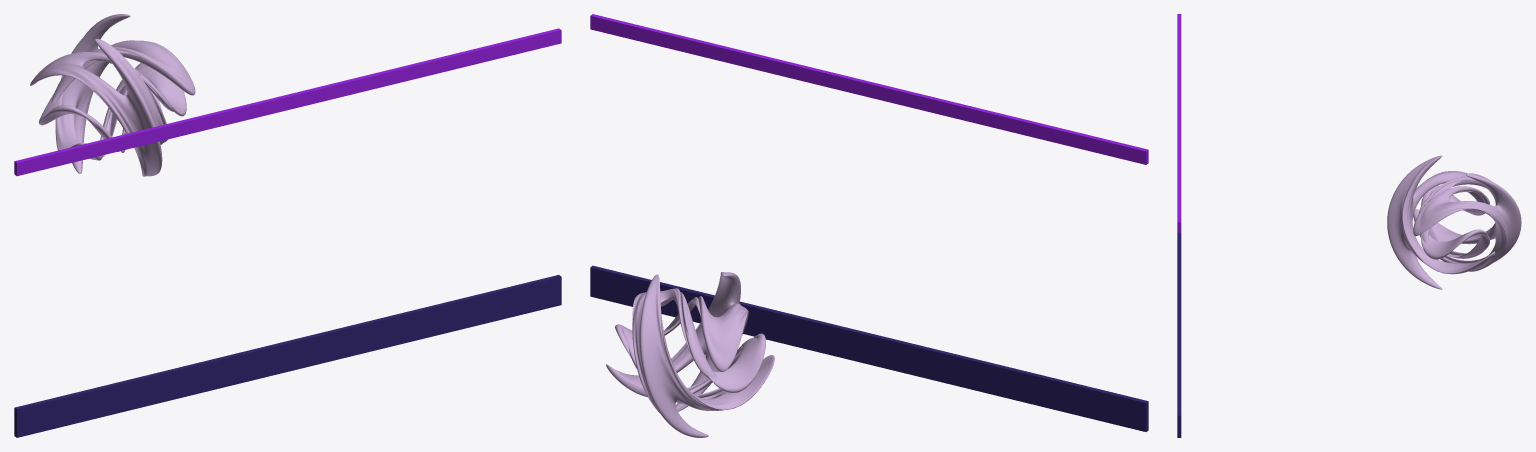
3 views of the same model, side by side, from view 1: azimuth 30°, elevation 25°; view 2: azimuth 150°, elevation 25°; view 3: azimuth 270°, elevation 25° (orthographic). The views are drawn at different scales.
Visible parts, largest first — view 1: Cube.002, Torus, Cube.001; view 2: Cube.002, Torus, Cube.001; view 3: Torus, Cube.001, Cube.002.
Boxes of the visible parts, x1=… form: Cube.002: x1=14, y1=275, x2=561, y2=437; Torus: x1=30, y1=14, x2=195, y2=176; Cube.001: x1=14, y1=28, x2=561, y2=176; Cube.002: x1=590, y1=265, x2=1148, y2=431; Torus: x1=606, y1=272, x2=774, y2=437; Cube.001: x1=590, y1=14, x2=1148, y2=164; Torus: x1=1387, y1=155, x2=1521, y2=289; Cube.001: x1=1177, y1=14, x2=1181, y2=232; Cube.002: x1=1177, y1=232, x2=1181, y2=437.
Size of the model in its own units: 10 by 4.82 by 6.98.
